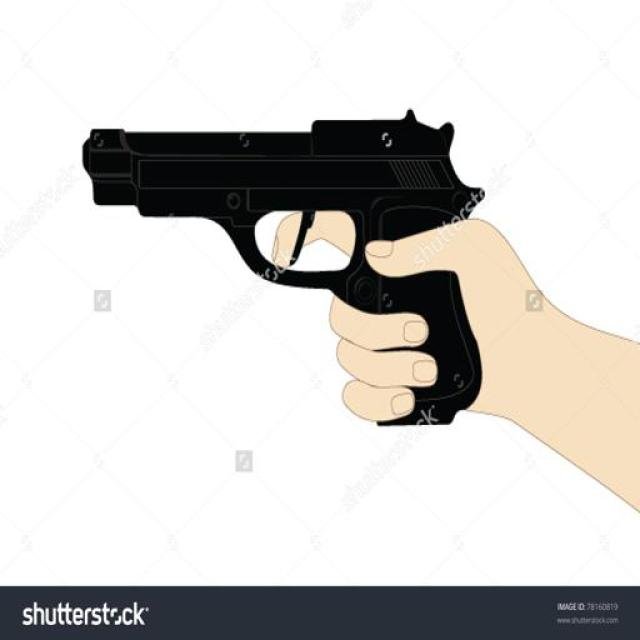pistol: (80, 109, 485, 424)
